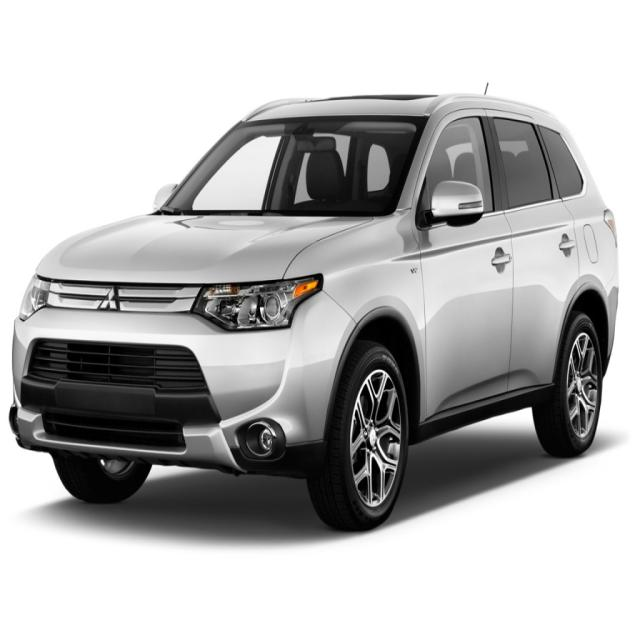light_vehicle: (9, 94, 620, 532)
